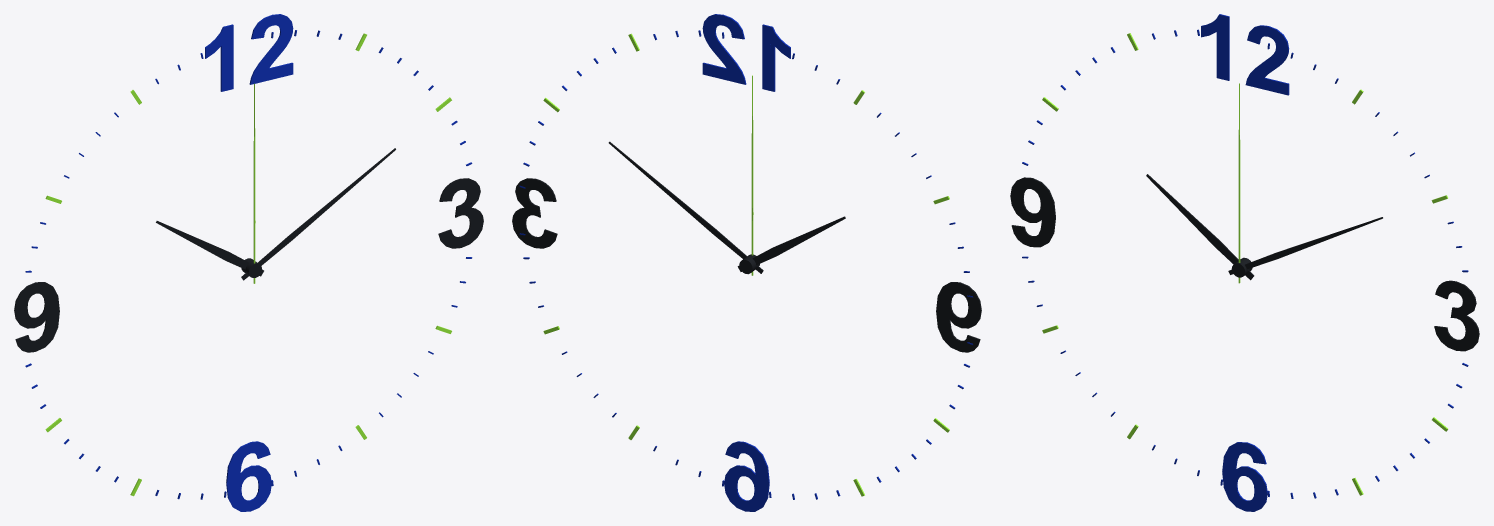
The model's file is wallClock-6.glb.
The picture shows the model from 3 angles, left to right: view 1: azimuth 30°, elevation 25°; view 2: azimuth 150°, elevation 25°; view 3: azimuth 330°, elevation 25°; orthographic projection.
Parts seen in each view (by area): view 1: Clock_EDS_blue, Clock_graphite, Clock_minute_hand_blade, Clock_hour_hand_blade, Clock_EDS_lime; view 2: Clock_EDS_blue, Clock_graphite, Clock_minute_hand_blade, Clock_hour_hand_blade, Clock_EDS_lime; view 3: Clock_EDS_blue, Clock_graphite, Clock_hour_hand_blade, Clock_minute_hand_blade, Clock_EDS_lime.
Boxes of the visible parts, x1,y1,x2,y2 form: Clock_EDS_blue: (25, 14, 472, 511); Clock_graphite: (14, 178, 483, 352); Clock_minute_hand_blade: (241, 148, 395, 280); Clock_hour_hand_blade: (156, 221, 263, 276); Clock_EDS_lime: (45, 33, 451, 496); Clock_EDS_blue: (519, 14, 972, 511); Clock_graphite: (512, 178, 981, 352); Clock_minute_hand_blade: (608, 141, 763, 273); Clock_hour_hand_blade: (737, 216, 845, 271); Clock_EDS_lime: (543, 33, 949, 496); Clock_EDS_blue: (1022, 14, 1468, 511); Clock_graphite: (1010, 177, 1479, 351); Clock_hour_hand_blade: (1146, 174, 1254, 280); Clock_minute_hand_blade: (1228, 217, 1382, 274); Clock_EDS_lime: (1042, 33, 1447, 495).
Size of the model in its own units: 1.25 by 1.25 by 0.035.
